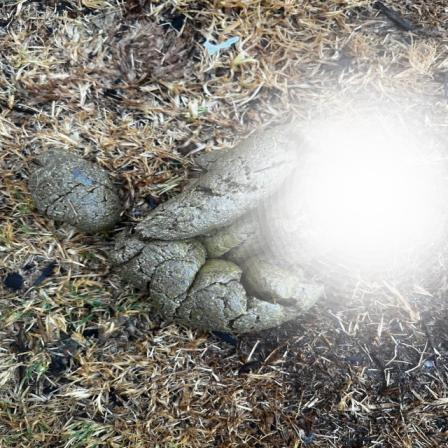dog-poop: (41, 84, 366, 340)
